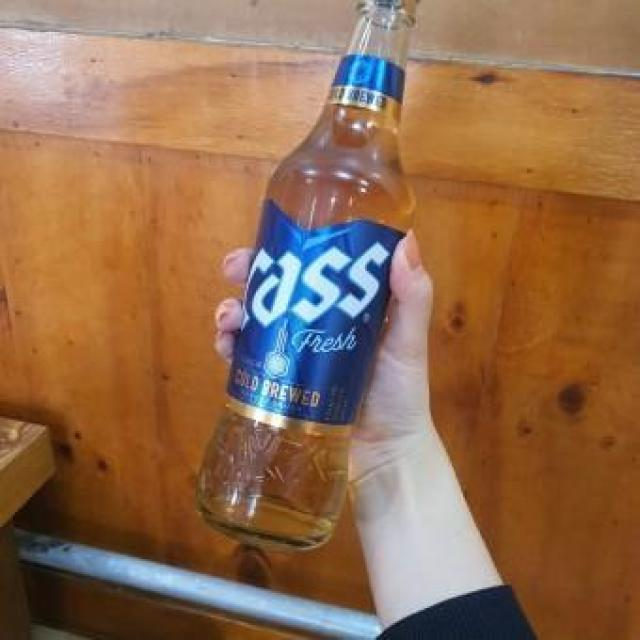beer-bottle: (191, 0, 421, 557)
